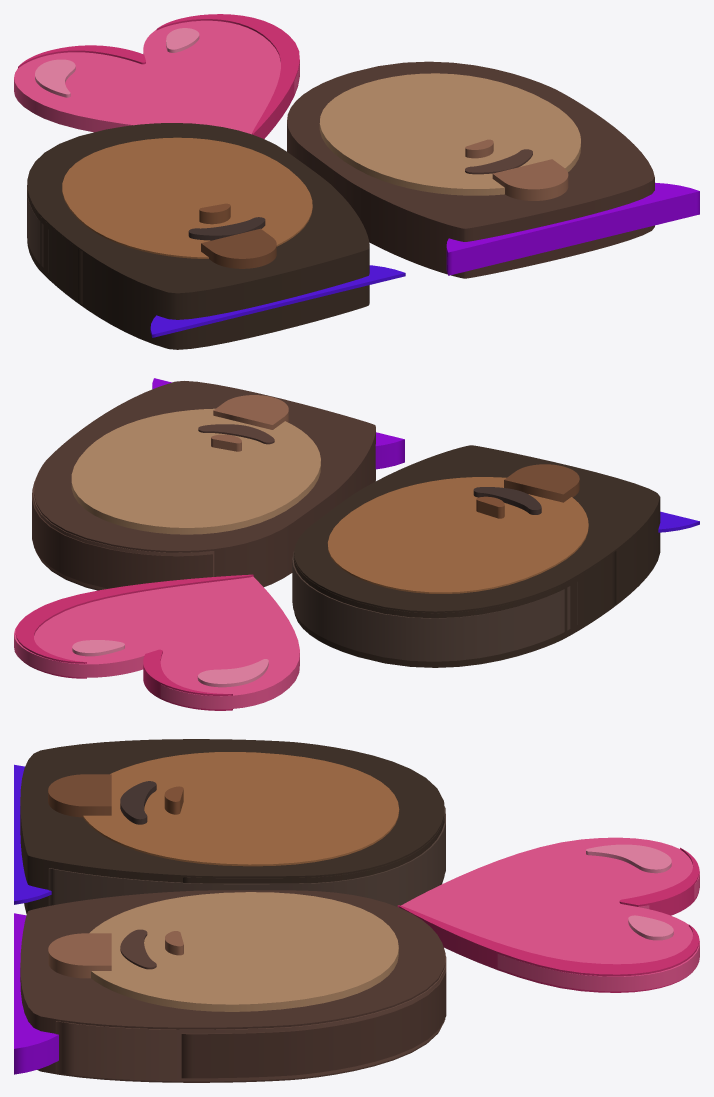
File: emoji_u1f469_1f3fe_200d_2764_200d_1f469_1f3fd.glb
3 renders of one model, top to bottom at view 1: azimuth 30°, elevation 25°; view 2: azimuth 150°, elevation 25°; view 3: azimuth 270°, elevation 25°, orthographic. The views are drawn at different scales.
Parts seen in each view (by area): view 1: emoji_u1f469_1f3fe_200d_2764_200d_1f469_1f3fd; view 2: emoji_u1f469_1f3fe_200d_2764_200d_1f469_1f3fd; view 3: emoji_u1f469_1f3fe_200d_2764_200d_1f469_1f3fd.
Boxes of the visible parts, box(x1,y1,x2,y2) form: emoji_u1f469_1f3fe_200d_2764_200d_1f469_1f3fd: box(14, 14, 699, 349); emoji_u1f469_1f3fe_200d_2764_200d_1f469_1f3fd: box(14, 378, 699, 710); emoji_u1f469_1f3fe_200d_2764_200d_1f469_1f3fd: box(14, 739, 699, 1082).
Bounding box in the file's own units: 0.0345 × 0.005 × 0.0338.
